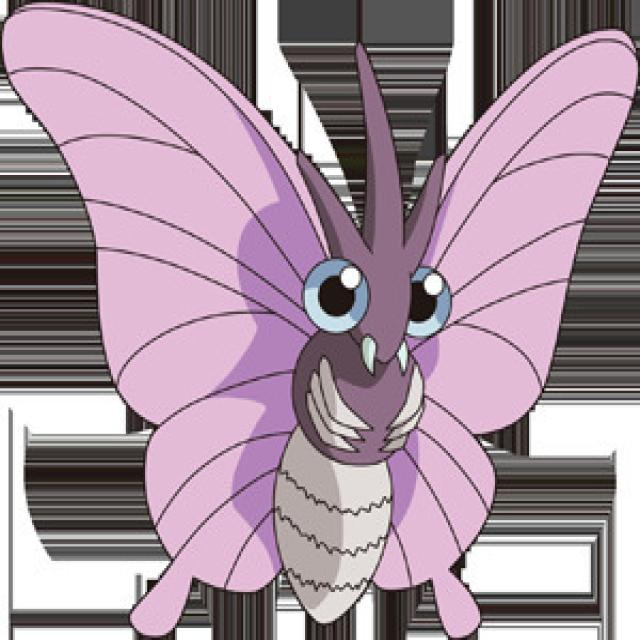Venomoth: (140, 135, 508, 640)
